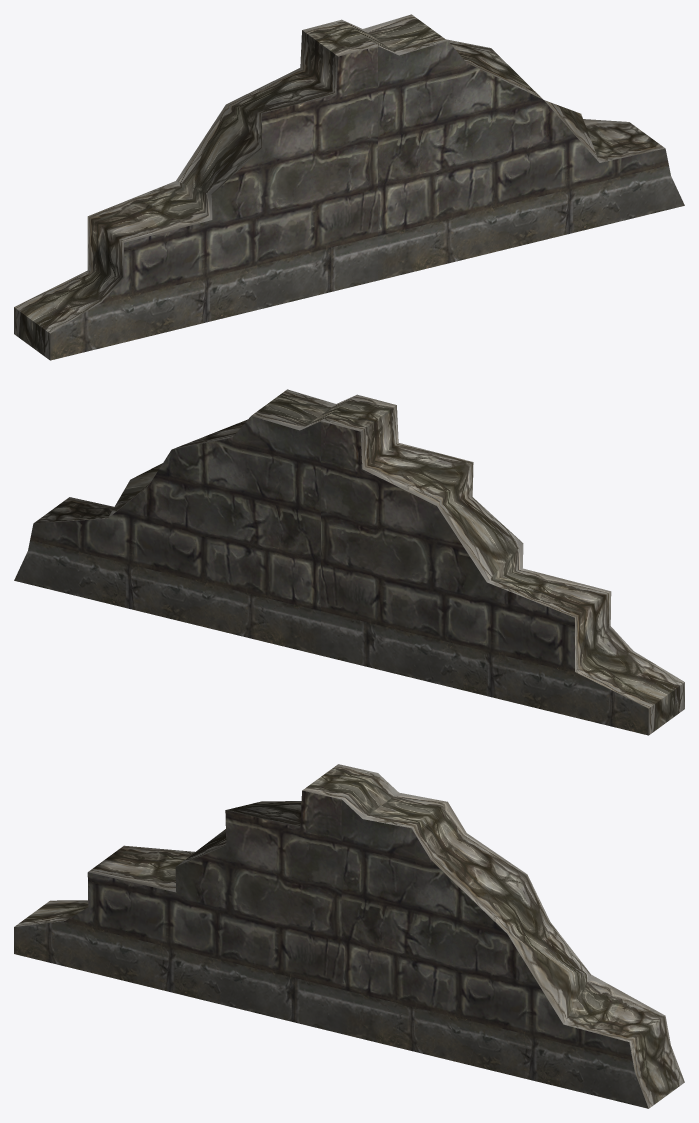
The model's file is Z_qiang006.fbx.
3 renders of one model, top to bottom at view 1: azimuth 30°, elevation 25°; view 2: azimuth 150°, elevation 25°; view 3: azimuth 330°, elevation 25°, orthographic.
Parts seen in each view (by area): view 1: Z_qiang006; view 2: Z_qiang006; view 3: Z_qiang006.
Boxes of the visible parts, x1,y1,x2,y2 form: Z_qiang006: (14, 14, 684, 360); Z_qiang006: (14, 389, 684, 735); Z_qiang006: (14, 764, 684, 1108).
Size of the model in its own units: 756 by 267 by 74.76.
